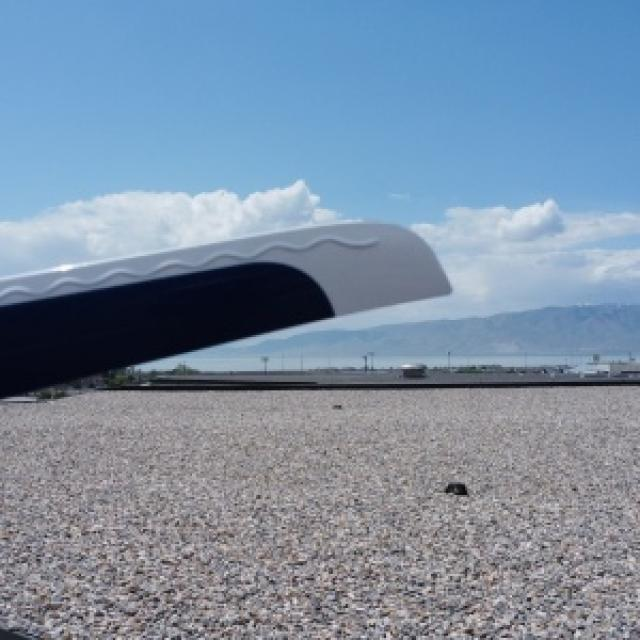healthy: (0, 222, 446, 395)
